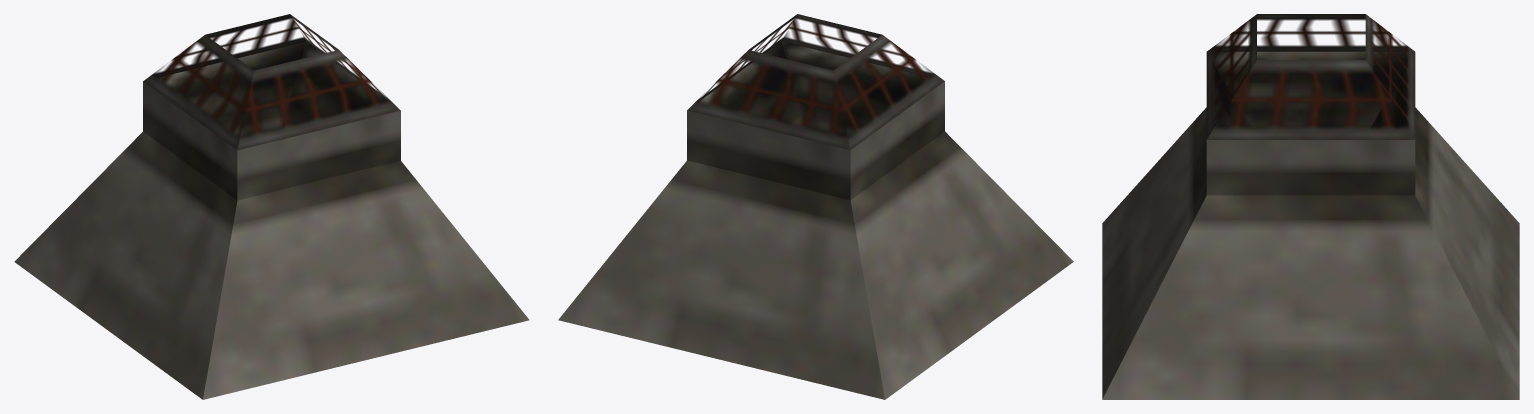
The model's file is prop-055.glb.
The picture shows the model from 3 angles, left to right: view 1: azimuth 30°, elevation 25°; view 2: azimuth 150°, elevation 25°; view 3: azimuth 270°, elevation 25°; orthographic projection. The views are drawn at different scales.
Visible parts, largest first — view 1: root; view 2: root; view 3: root.
Boxes of the visible parts, <box> form: root: <box>14,14,529,399</box>; root: <box>558,14,1073,399</box>; root: <box>1102,14,1519,399</box>.
Size of the model in its own units: 1 by 0.7266 by 1.
Materials: 2 (2 with a texture image).
